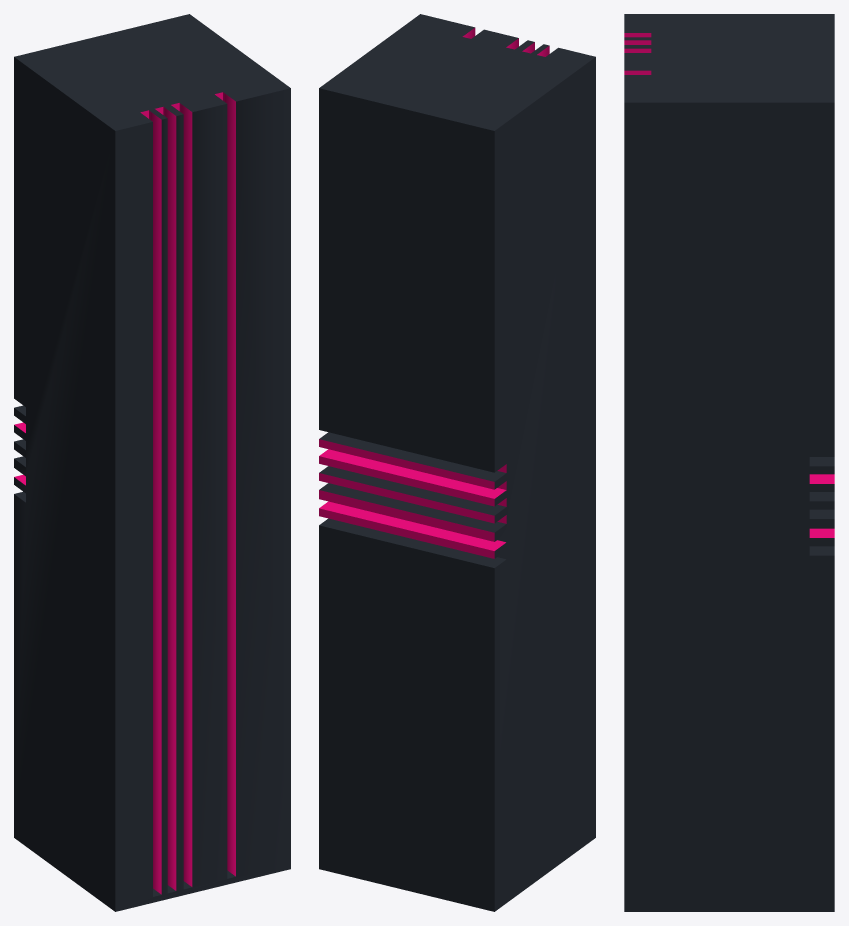
File: Building03.fbx
The picture shows the model from 3 angles, left to right: view 1: azimuth 30°, elevation 25°; view 2: azimuth 150°, elevation 25°; view 3: azimuth 270°, elevation 25°; orthographic projection. The views are drawn at different scales.
Visible parts, largest first — view 1: Box045; view 2: Box045; view 3: Box045.
Boxes of the visible parts, bbox=[...] form: Box045: bbox=[14, 14, 290, 911]; Box045: bbox=[319, 14, 595, 911]; Box045: bbox=[624, 14, 834, 911].
Size of the model in its own units: 50.8 by 216 by 50.8.
